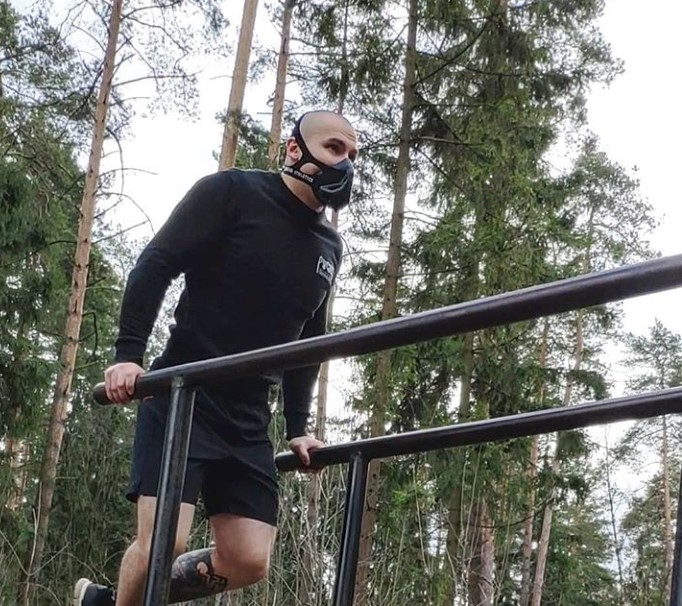face_with_mask: (279, 108, 357, 211)
